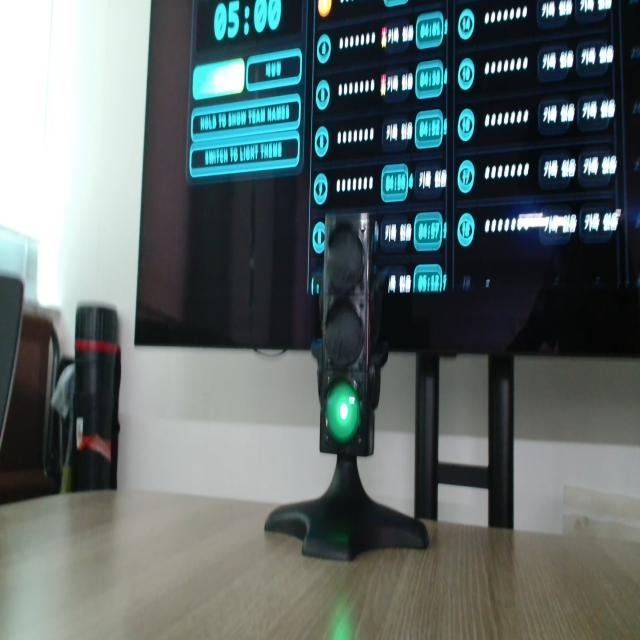green_light: (326, 382, 359, 443)
